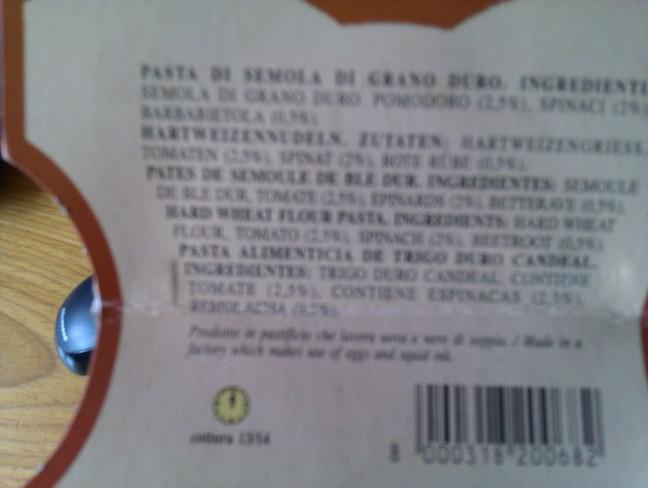Barkod: (381, 371, 621, 470)
